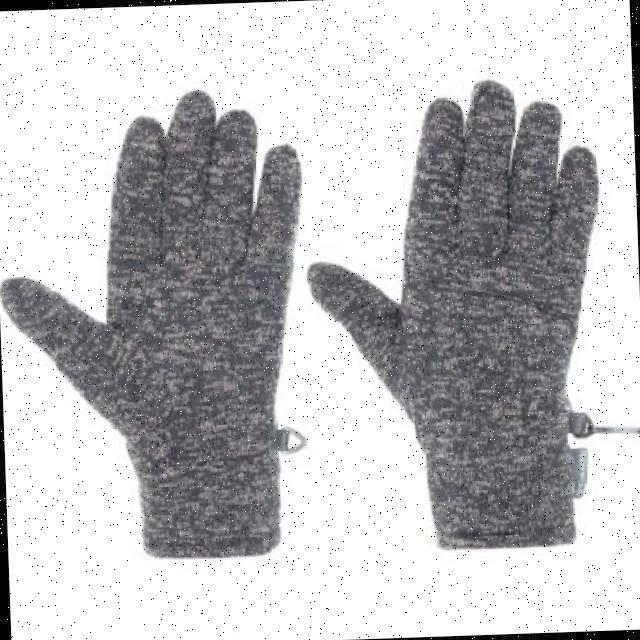Gloves: (0, 88, 302, 558), (306, 79, 599, 549)
